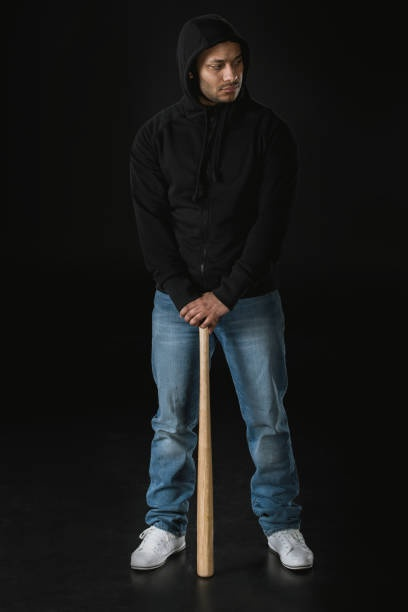bita: (193, 301, 223, 577)
